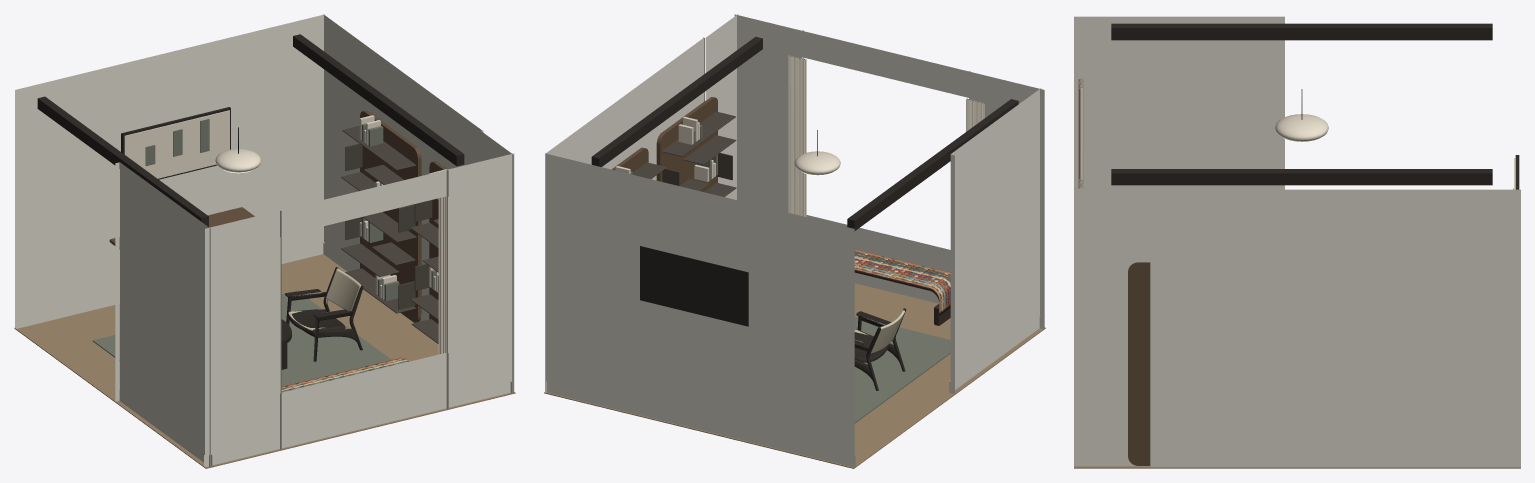
File: formal-3.glb
The picture shows the model from 3 angles, left to right: view 1: azimuth 30°, elevation 25°; view 2: azimuth 150°, elevation 25°; view 3: azimuth 270°, elevation 25°; orthographic projection. The views are drawn at different scales.
Visible parts, largest first — view 1: DESIGN | formal removable wall finish, DESIGN | formal floor finish, DESIGN | Required Blabla bookcase 2, DESIGN | Formal ground, DESIGN | Textile artwork, DESIGN | Conversation chair east, DESIGN | Formal timber boundary.001, DESIGN | Required Blabla bookcase 1, DESIGN | Formal timber boundary, DESIGN | Formal soft window edge.001, DESIGN | Study paper light shade, DESIGN | Required Brera anniversary window bench (+2 smaller); view 2: DESIGN | formal removable wall finish, DESIGN | formal floor finish, DESIGN | Quiet artwork frame, DESIGN | Required Blabla bookcase 1, DESIGN | Formal ground, DESIGN | Formal timber boundary.001, DESIGN | Formal soft window edge.001, DESIGN | Required Brera anniversary window bench, DESIGN | Formal timber boundary, DESIGN | Conversation chair west, DESIGN | Study paper light shade, DESIGN | Required Blabla bookcase 2; view 3: DESIGN | formal removable wall finish, DESIGN | Formal timber boundary, DESIGN | Formal timber boundary.001, DESIGN | Required Blabla bookcase 1, DESIGN | Study paper light shade, DESIGN | formal floor finish, DESIGN | Formal soft window edge.
Boxes of the visible parts, x1,y1,x2,y2 form: DESIGN | formal removable wall finish: [15, 14, 514, 466]; DESIGN | formal floor finish: [14, 254, 515, 468]; DESIGN | Required Blabla bookcase 2: [341, 110, 421, 322]; DESIGN | Formal ground: [92, 290, 391, 386]; DESIGN | Textile artwork: [124, 110, 229, 178]; DESIGN | Conversation chair east: [285, 267, 363, 361]; DESIGN | Formal timber boundary.001: [293, 34, 464, 166]; DESIGN | Required Blabla bookcase 1: [410, 161, 447, 343]; DESIGN | Formal timber boundary: [37, 96, 208, 226]; DESIGN | Formal soft window edge.001: [438, 196, 446, 354]; DESIGN | Study paper light shade: [215, 149, 261, 172]; DESIGN | Required Brera anniversary window bench: [281, 357, 409, 392]; DESIGN | formal removable wall finish: [545, 14, 1044, 467]; DESIGN | formal floor finish: [544, 283, 1045, 468]; DESIGN | Quiet artwork frame: [640, 246, 748, 326]; DESIGN | Required Blabla bookcase 1: [656, 97, 736, 196]; DESIGN | Formal ground: [854, 316, 950, 423]; DESIGN | Formal timber boundary.001: [591, 36, 762, 166]; DESIGN | Formal soft window edge.001: [788, 55, 806, 216]; DESIGN | Required Brera anniversary window bench: [854, 249, 950, 325]; DESIGN | Formal timber boundary: [847, 99, 1018, 230]; DESIGN | Conversation chair west: [854, 308, 906, 390]; DESIGN | Study paper light shade: [794, 151, 840, 175]; DESIGN | Required Blabla bookcase 2: [611, 147, 666, 178]; DESIGN | formal removable wall finish: [1074, 16, 1520, 467]; DESIGN | Formal timber boundary: [1111, 23, 1492, 40]; DESIGN | Formal timber boundary.001: [1111, 169, 1492, 185]; DESIGN | Required Blabla bookcase 1: [1128, 262, 1150, 465]; DESIGN | Study paper light shade: [1275, 114, 1328, 141]; DESIGN | formal floor finish: [1074, 466, 1520, 468]; DESIGN | Formal soft window edge: [1078, 78, 1083, 181].
Size of the model in its own units: 3.71 by 2.74 by 3.98.
